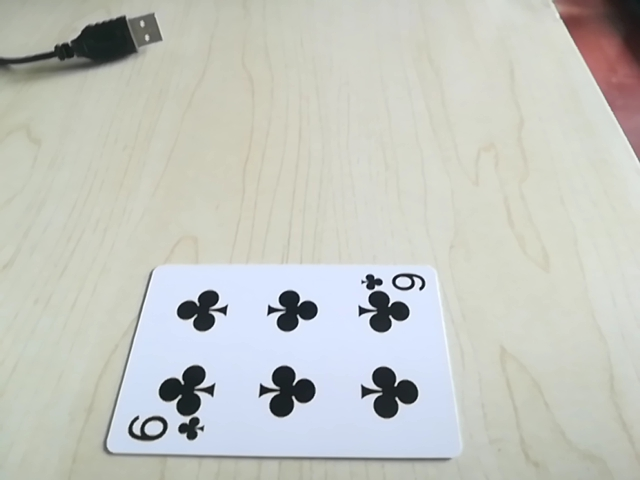mh 6: (124, 414, 203, 450), (361, 266, 428, 297)
